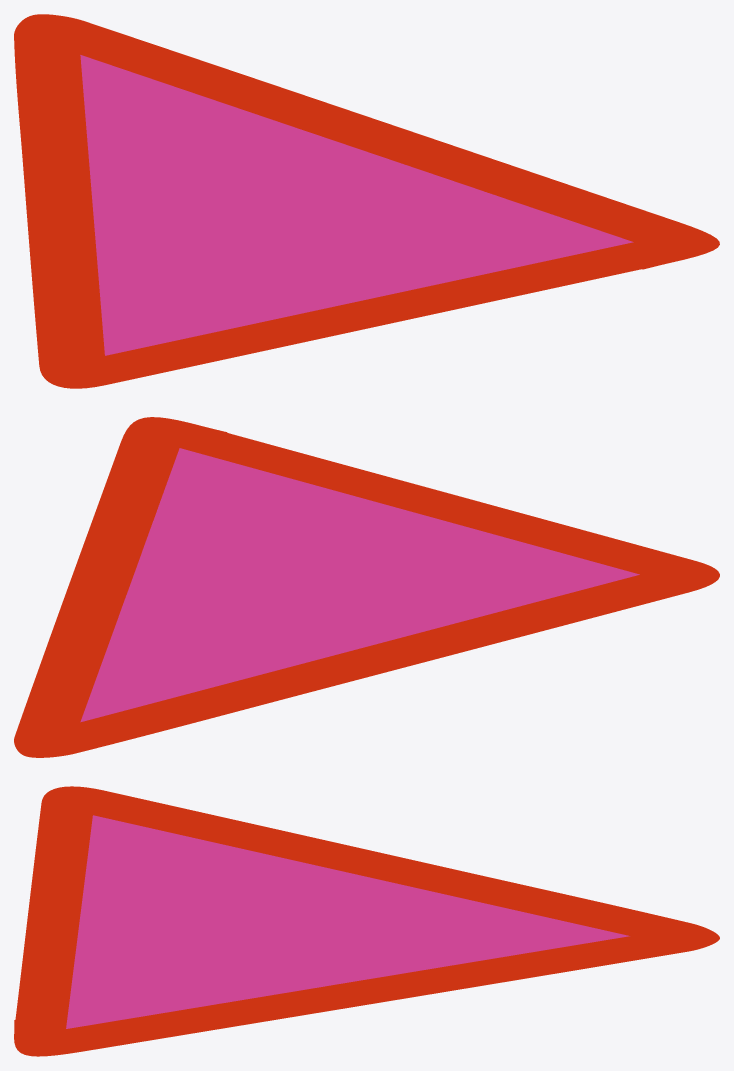
Rendered from triangle v1.dae.
The picture shows the model from 3 angles, top to bottom: view 1: azimuth 30°, elevation 25°; view 2: azimuth 150°, elevation 25°; view 3: azimuth 270°, elevation 25°; orthographic projection. The views are drawn at different scales.
Visible parts, largest first — view 1: Curve.010, Curve.007; view 2: Curve.010, Curve.007; view 3: Curve.010, Curve.007.
Part boxes in pixels (<box>): Curve.010: <box>80,55,633,355</box>; Curve.007: <box>14,14,719,388</box>; Curve.010: <box>80,448,639,722</box>; Curve.007: <box>14,417,719,757</box>; Curve.010: <box>66,815,629,1028</box>; Curve.007: <box>14,786,719,1056</box>.
Bounding box in the file's own units: 0.5108 × 0.5642 × 0.
